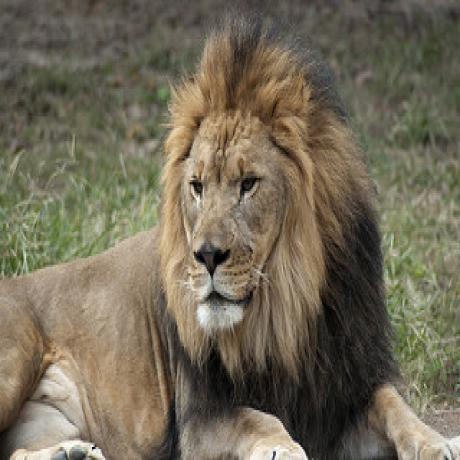Lion: (0, 2, 438, 460)
